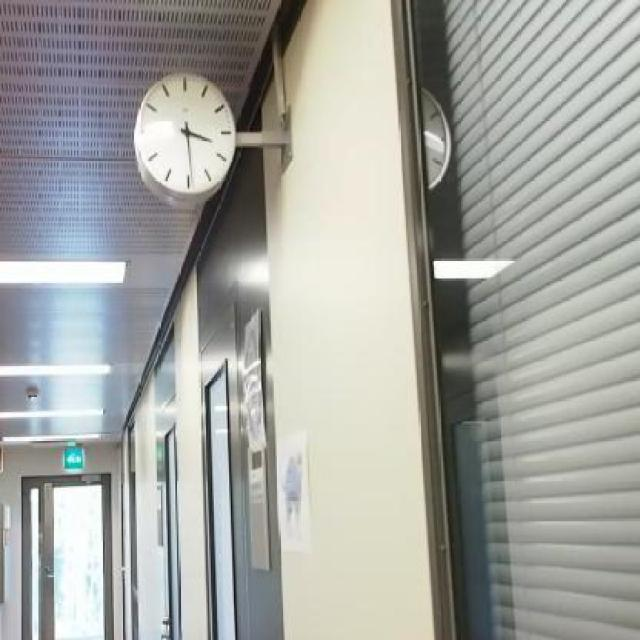emergency_exit: (132, 71, 238, 208), (62, 445, 85, 471)
